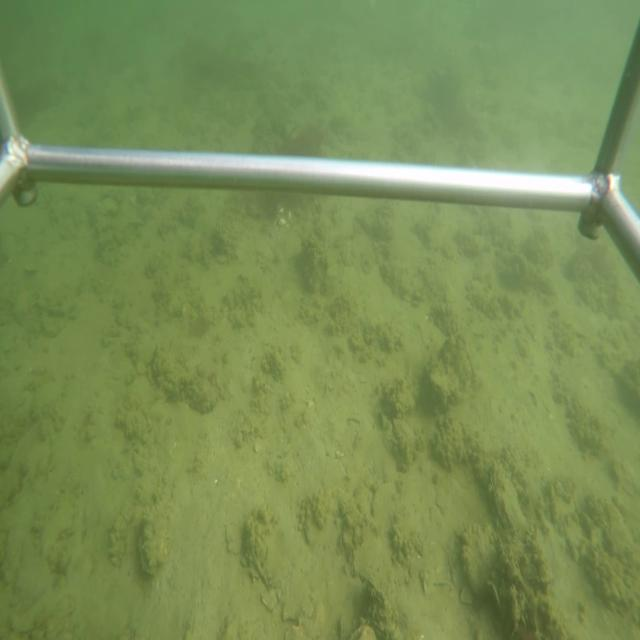Oyster-Closed: (487, 458, 532, 544)
